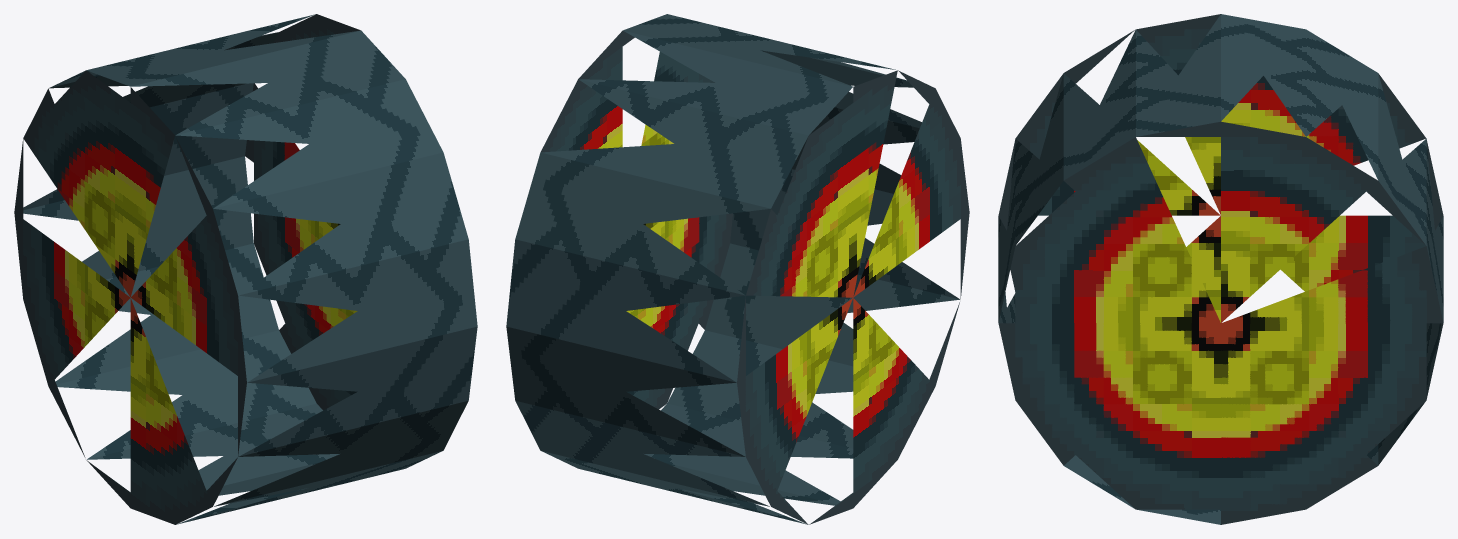
File: kart_tire_L.glb
3 renders of one model, left to right at view 1: azimuth 30°, elevation 25°; view 2: azimuth 150°, elevation 25°; view 3: azimuth 270°, elevation 25°, orthographic. The views are drawn at different scales.
Visible parts, largest first — view 1: kart_tire_L; view 2: kart_tire_L; view 3: kart_tire_L.
Boxes of the visible parts, x1,y1,x2,y2 form: kart_tire_L: (14,14,477,524); kart_tire_L: (506,14,969,524); kart_tire_L: (998,14,1443,524).
Bounding box in the file's own units: 0.249 × 0.4351 × 0.4351.
1 material, 1 textured.
